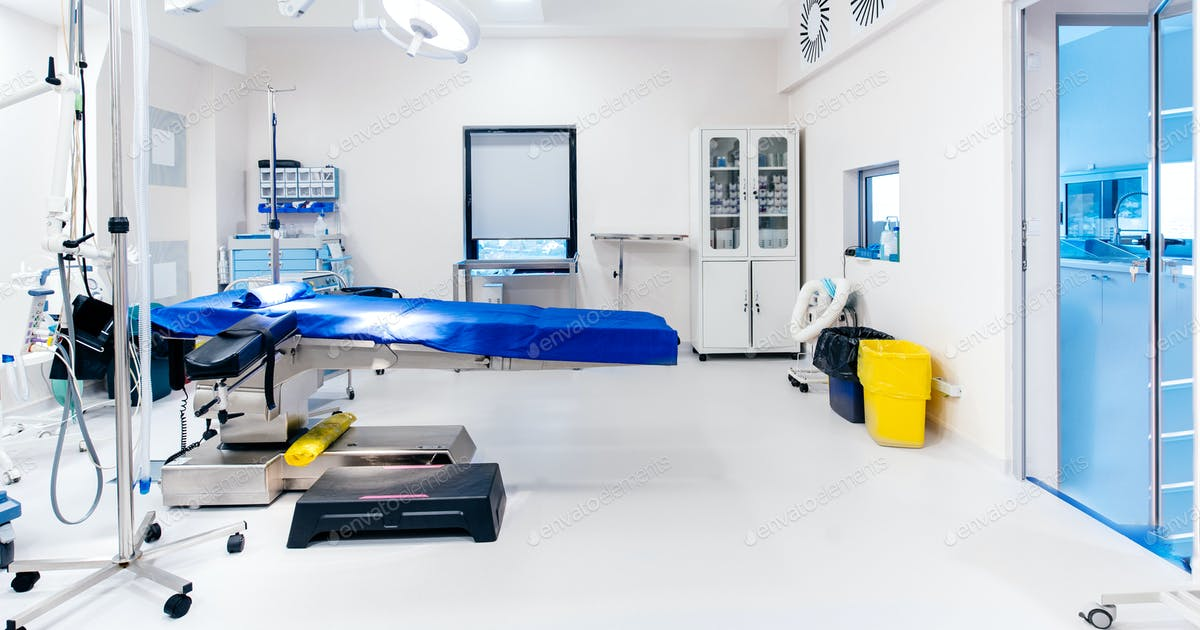breathing_tube: (111, 1, 161, 492)
cabinet: (691, 124, 802, 356)
handle: (1120, 250, 1161, 285)
iv_pole: (242, 83, 296, 278)
medical_drawer: (224, 231, 343, 286)
operating_bed: (152, 277, 679, 508)
surgical_light: (355, 1, 482, 62)
utility_cart: (452, 258, 581, 308)
waste_bin: (861, 339, 932, 445), (816, 329, 895, 424)
